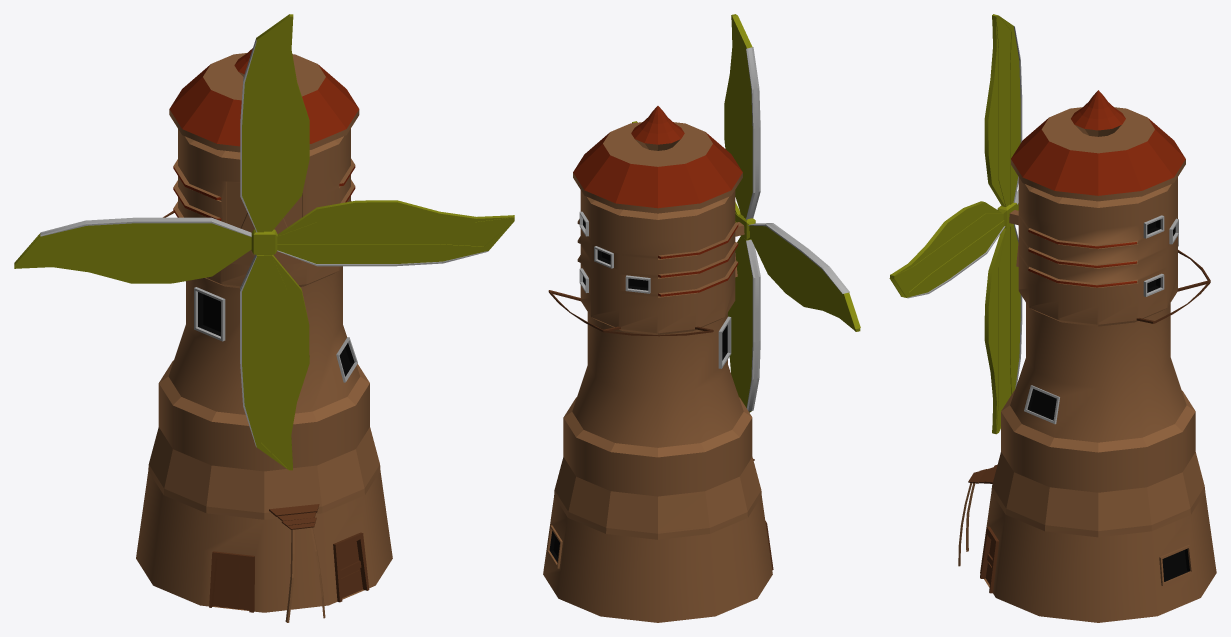
Rendered from Moulin.FBX.
3 renders of one model, left to right at view 1: azimuth 30°, elevation 25°; view 2: azimuth 150°, elevation 25°; view 3: azimuth 270°, elevation 25°, orthographic. The views are drawn at different scales.
Parts seen in each view (by area): view 1: Moulin; view 2: Moulin; view 3: Moulin.
Boxes of the visible parts, x1=… form: Moulin: x1=14, y1=14, x2=514, y2=622; Moulin: x1=543, y1=14, x2=860, y2=622; Moulin: x1=889, y1=14, x2=1216, y2=622.
Bounding box in the file's own units: 725 × 1082 × 589.
